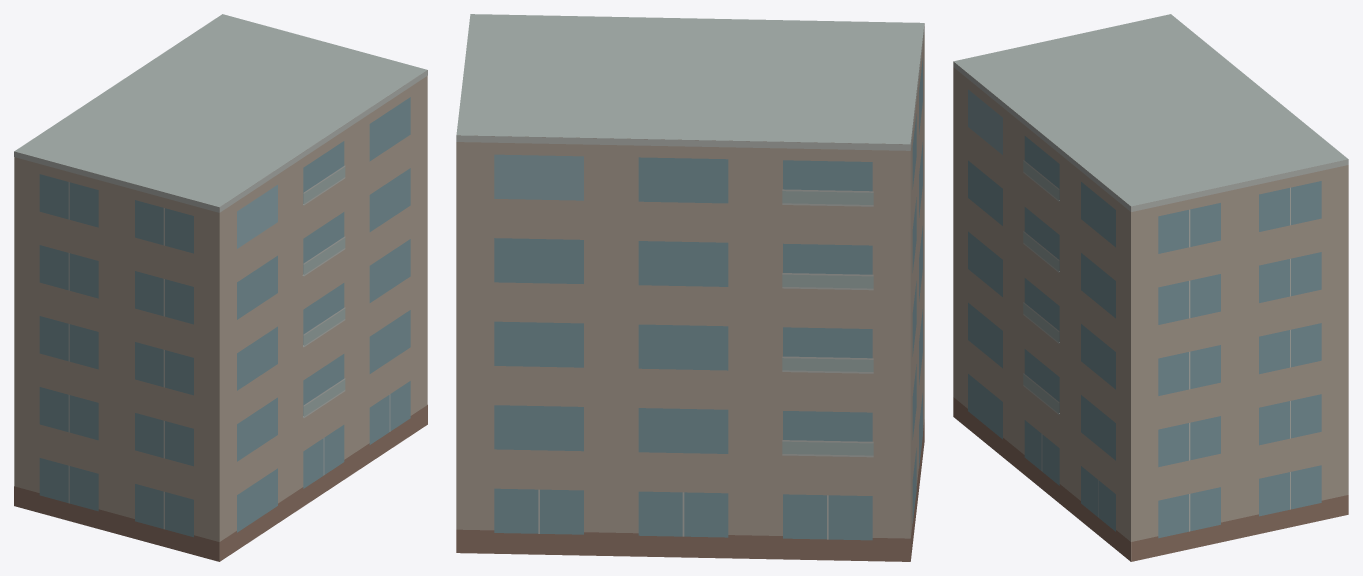
The model's file is survey-upis-33026412.glb.
The picture shows the model from 3 angles, left to right: view 1: azimuth 30°, elevation 25°; view 2: azimuth 150°, elevation 25°; view 3: azimuth 270°, elevation 25°; orthographic projection. The views are drawn at different scales.
Parts seen in each view (by area): view 1: survey-upis-33026412.tmp; view 2: survey-upis-33026412.tmp; view 3: survey-upis-33026412.tmp.
Boxes of the visible parts, x1,y1,x2,y2 form: survey-upis-33026412.tmp: (14, 14, 427, 561); survey-upis-33026412.tmp: (456, 14, 924, 561); survey-upis-33026412.tmp: (953, 14, 1348, 561).
Size of the model in its own units: 17.84 by 15.35 by 15.49.
